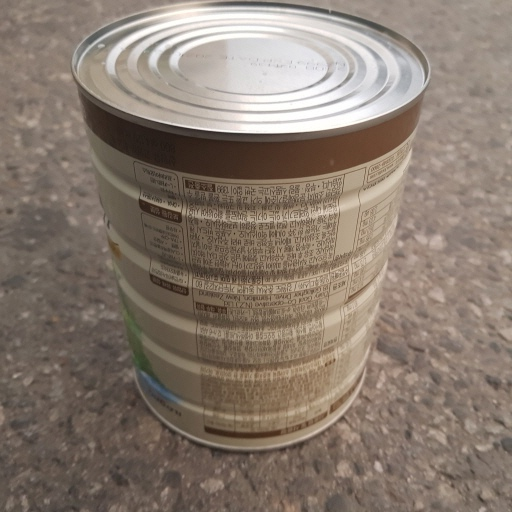Metal_1: (70, 2, 427, 452)
